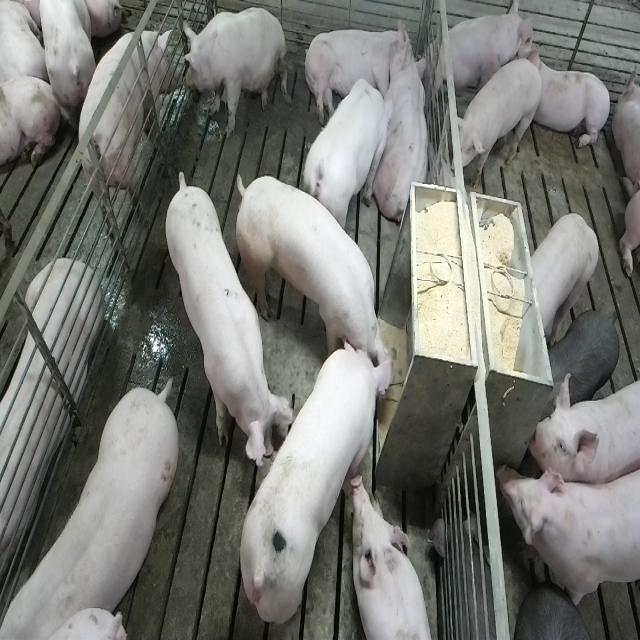Feeding: (238, 340, 397, 625), (231, 167, 391, 381)
Lateral_lying: (302, 16, 415, 130)
Sitting: (179, 7, 287, 139), (432, 0, 531, 104)
Standing: (5, 374, 184, 634), (162, 167, 288, 470), (78, 28, 180, 236), (500, 464, 638, 616), (302, 74, 389, 235), (532, 369, 640, 484), (453, 59, 542, 192), (528, 212, 600, 342), (547, 308, 621, 405), (516, 585, 606, 640)
Sternal_lying: (0, 260, 100, 583), (352, 479, 434, 640), (524, 48, 613, 155)
